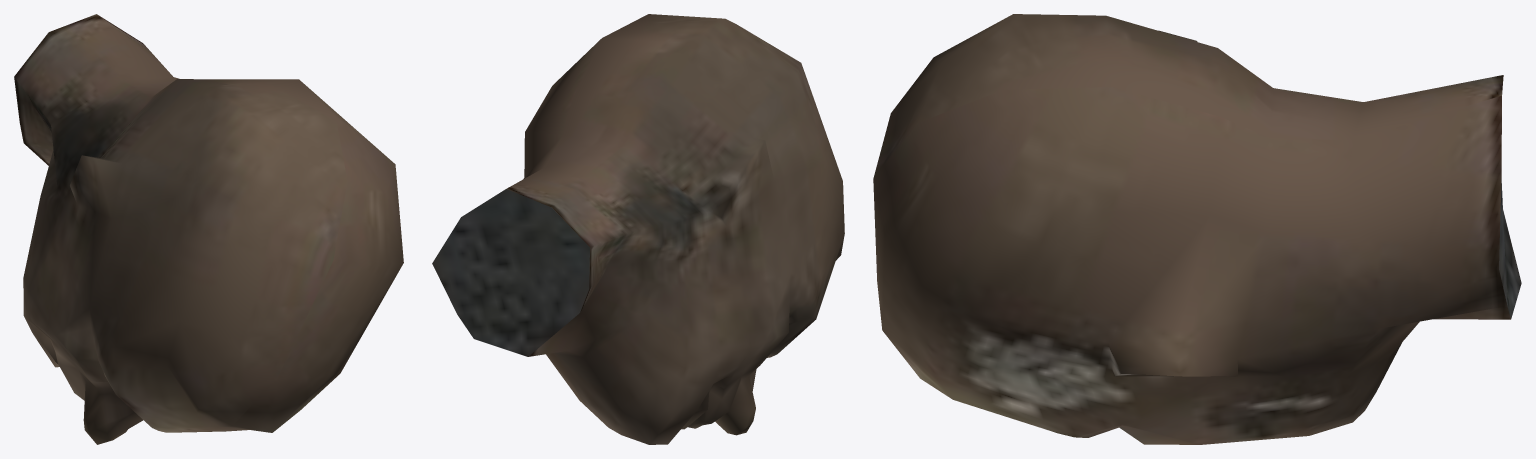
File: mannequin_head.glb
3 renders of one model, left to right at view 1: azimuth 30°, elevation 25°; view 2: azimuth 150°, elevation 25°; view 3: azimuth 270°, elevation 25°, orthographic. The views are drawn at different scales.
Bounding box in the file's own units: 8.02 × 9.83 × 12.53.
1 material, 1 textured.
